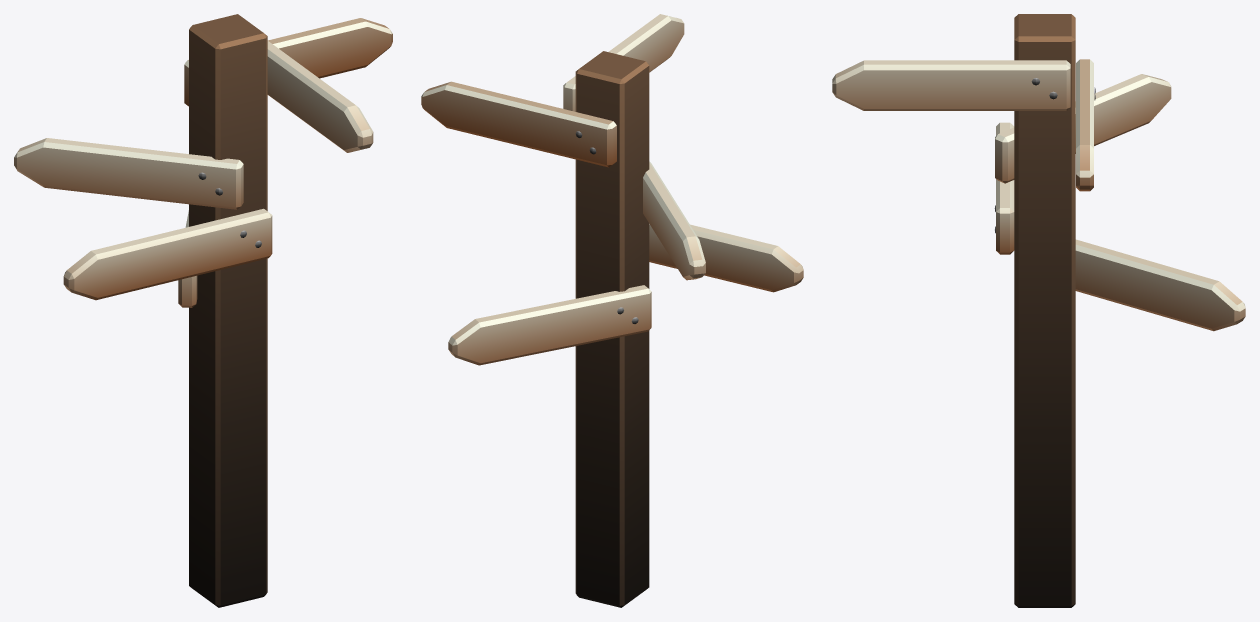
Rendered from Sign Post.glb.
3 views of the same model, side by side, from view 1: azimuth 30°, elevation 25°; view 2: azimuth 150°, elevation 25°; view 3: azimuth 270°, elevation 25° (orthographic). The views are drawn at different scales.
Parts seen in each view (by area): view 1: Sign Post; view 2: Sign Post; view 3: Sign Post.
Part boxes in pixels (x1,y1,x2,y2): Sign Post: (14,14,392,607); Sign Post: (421,14,803,607); Sign Post: (832,14,1245,607).
Size of the model in its own units: 4.36 by 6.46 by 4.24.
Materials: 1 (1 with a texture image).
